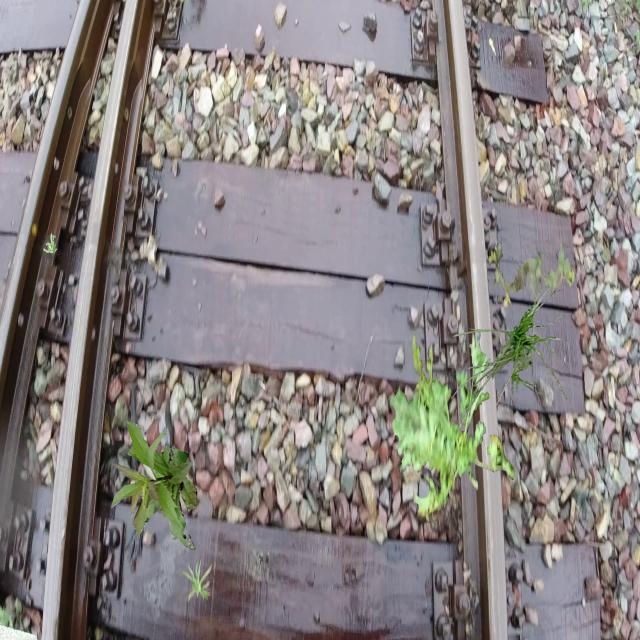Plant: (390, 330, 515, 526), (451, 267, 570, 430), (109, 420, 198, 550), (489, 240, 576, 308), (180, 557, 212, 603), (44, 233, 58, 253)
